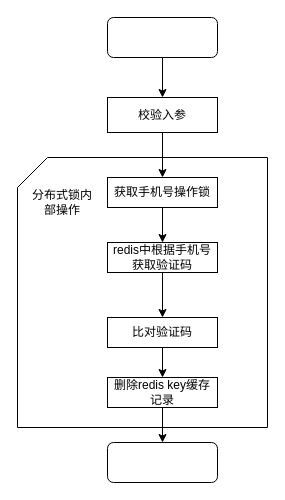
Some shapes in this 285 by 500 pixel diagram are drawn without their labels. The centre of each missing label's shape, as x and y in pixels:
"响应成功" belongs at pixel 162 462.
"校验验证码" belongs at pixel 162 37.
